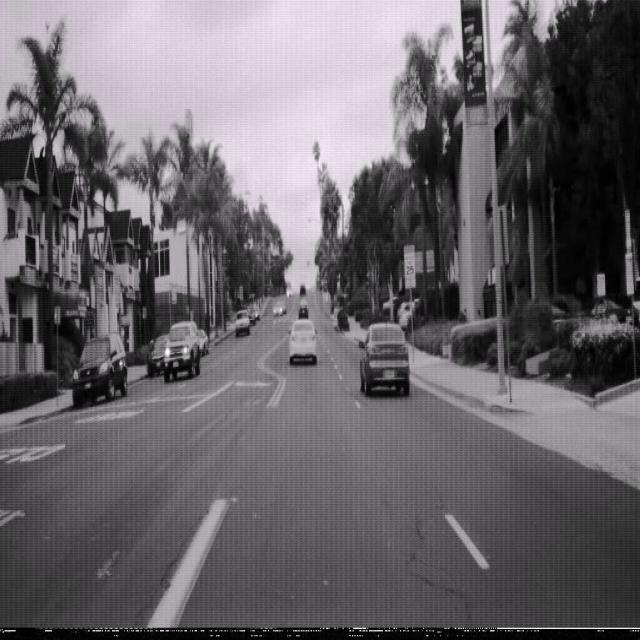speedLimit25: (403, 243, 416, 289)
